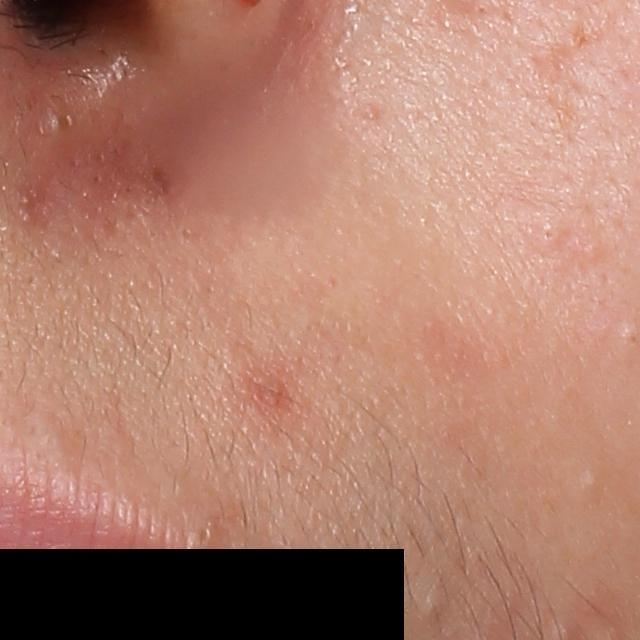comedo: (416, 588, 453, 619), (535, 218, 568, 250), (48, 106, 80, 136), (579, 470, 606, 495), (194, 522, 213, 548)
